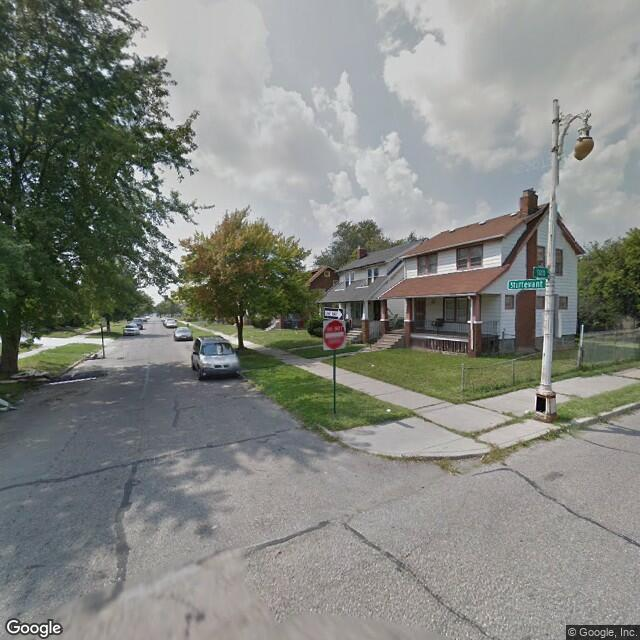litter: (369, 364, 378, 370), (383, 408, 393, 413)
